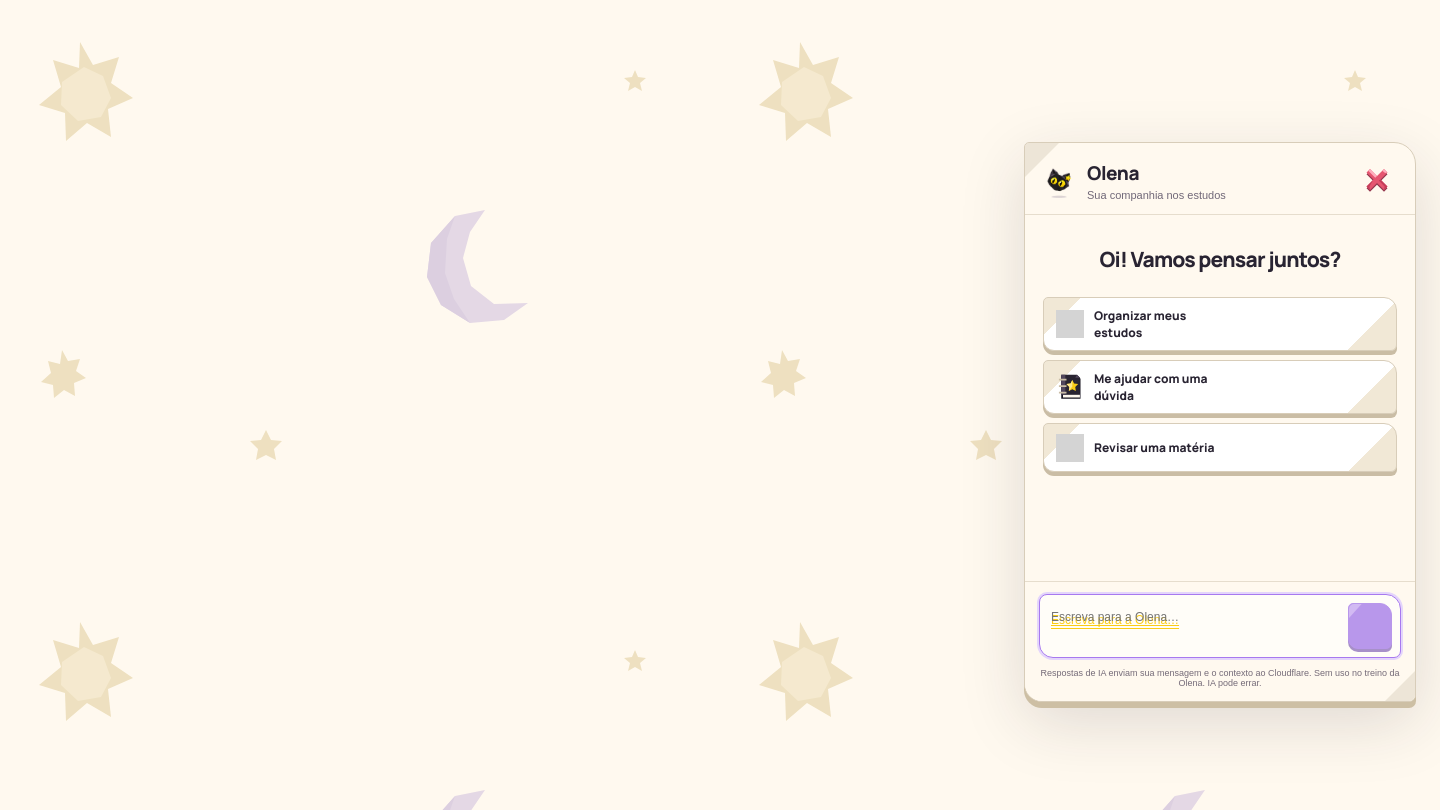
Test: shows partial text immediately, stops upstream and ignores late text after a new send
This screenshot has width=1440, height=810.
Type "Primeira" into the text box at (1194, 626), box [1048,603,1340,649]
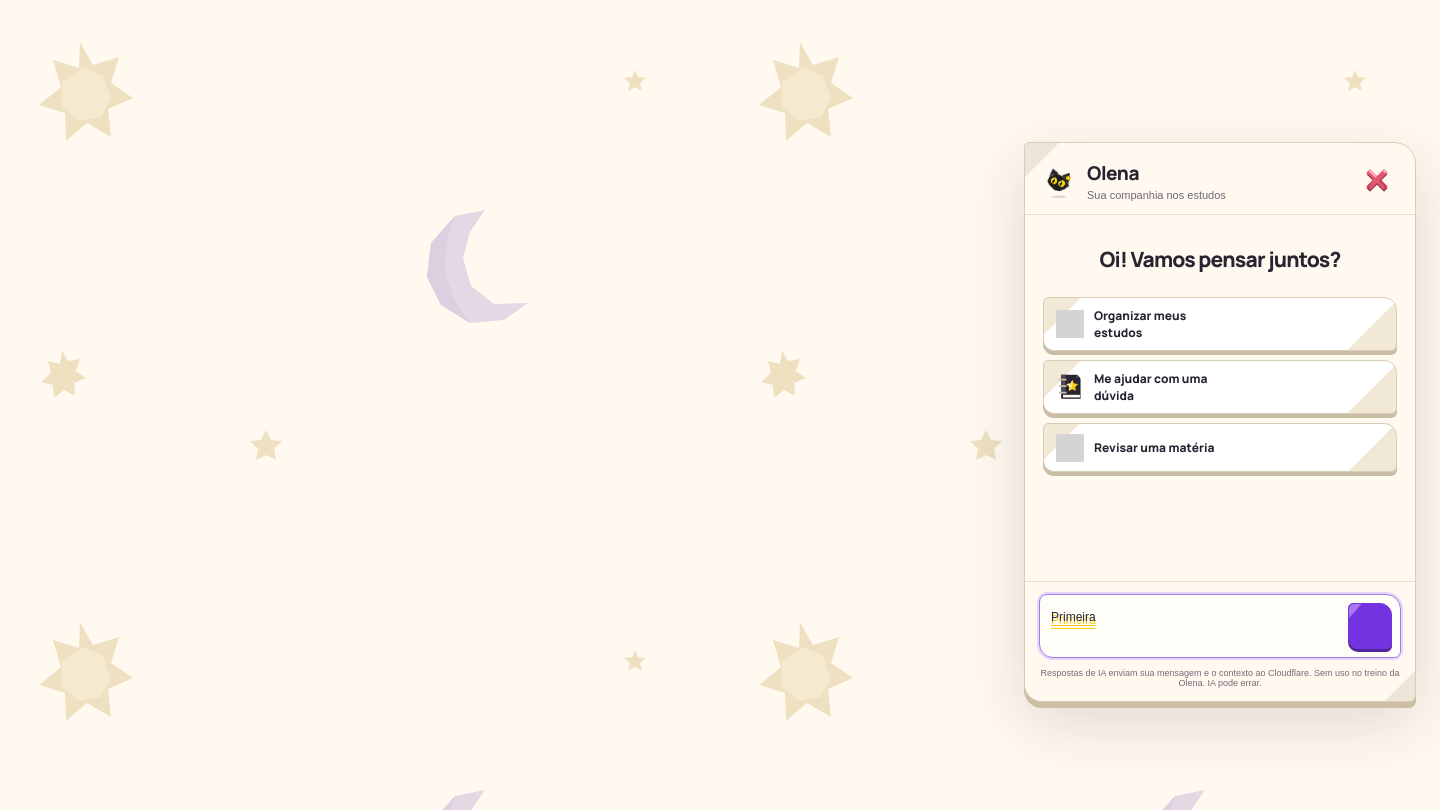
Click the button named "Enviar mensagem" at (1370, 626), box [1348,603,1392,649]
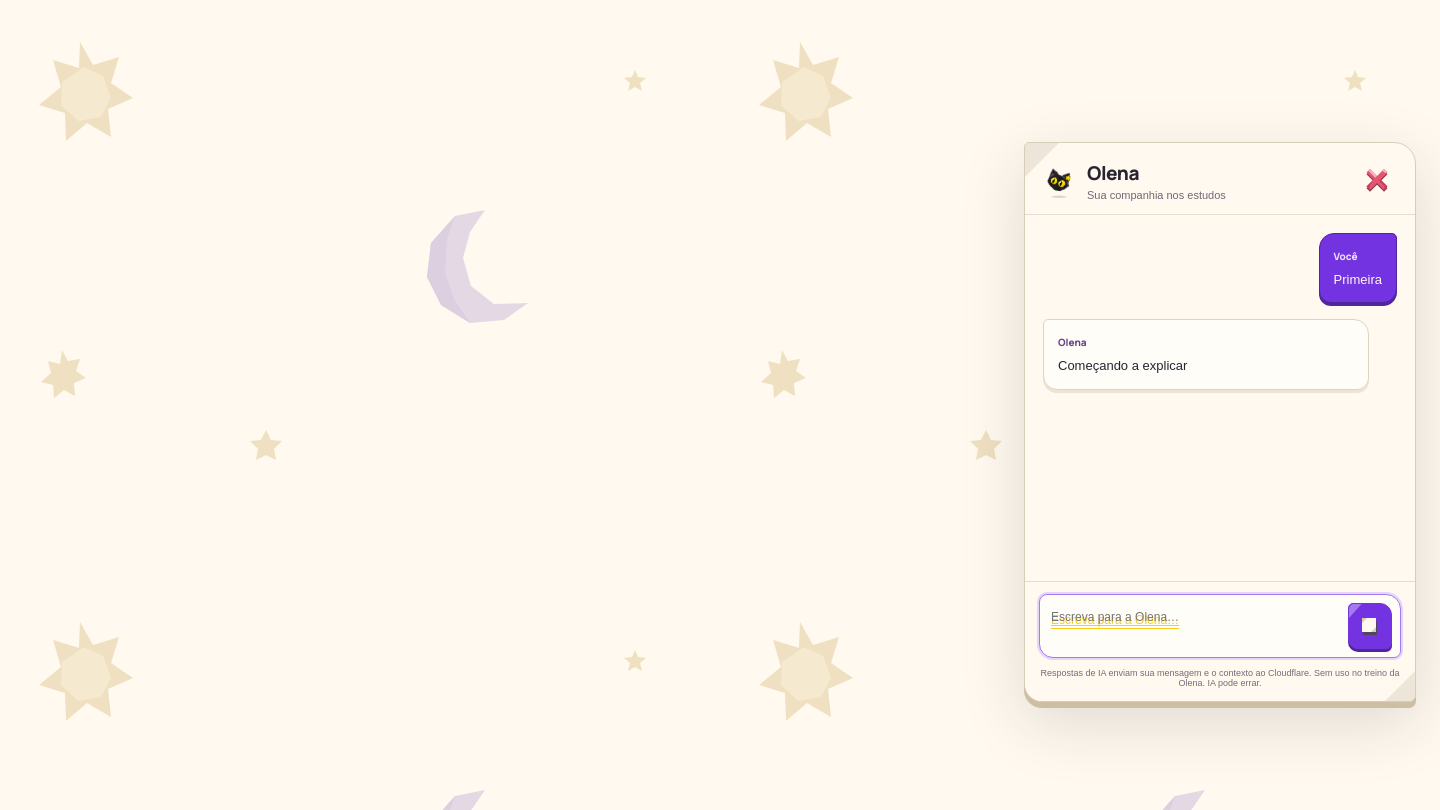
Expected: the text "Começando a explicar" is shown, [1058,358,1187,373]
Click the button named "Interromper resposta" at (1370, 626), box [1348,603,1392,649]
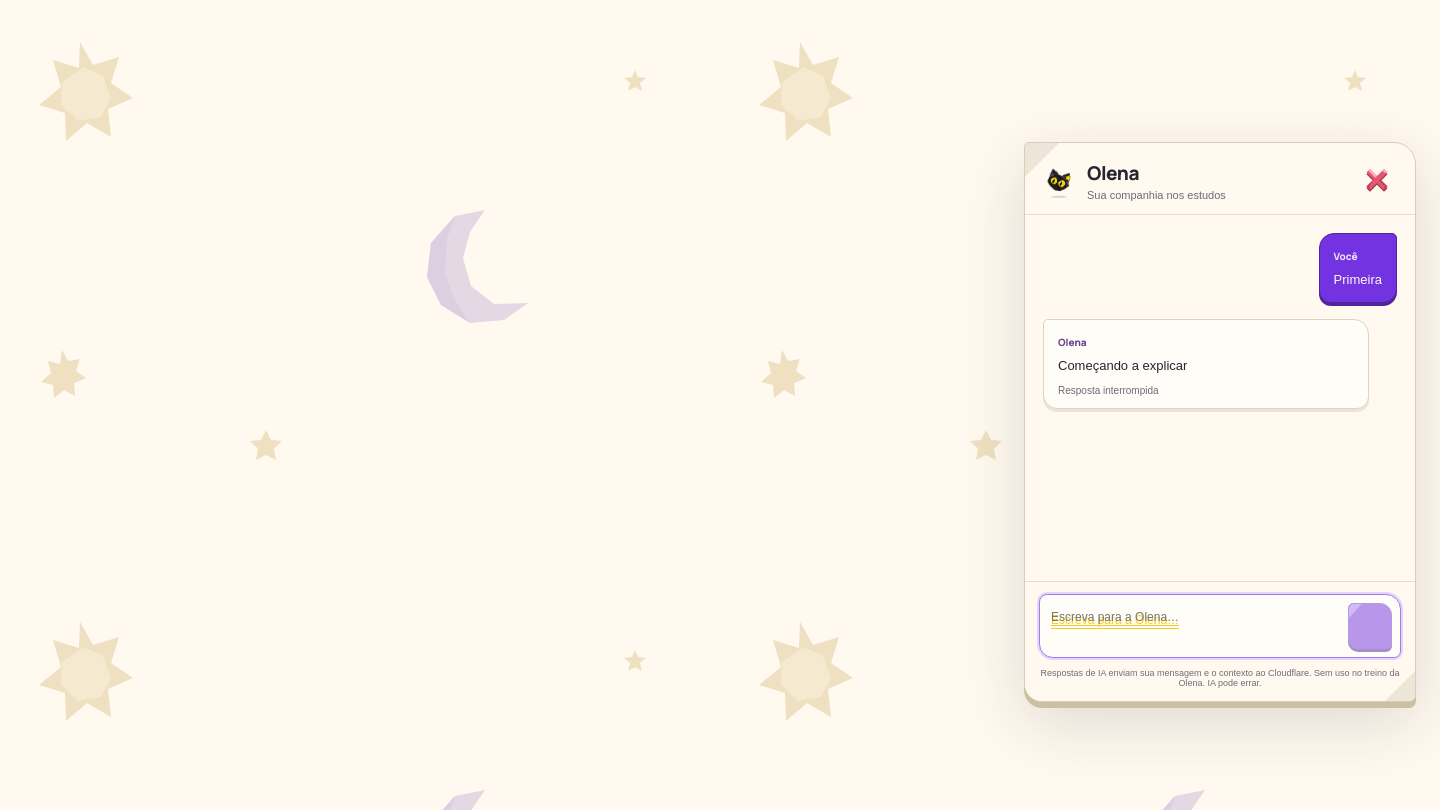
Expected: the text "Resposta interrompida" is shown, [1058,385,1159,396]
Type "Segunda" into the text box at (1194, 626), box [1048,603,1340,649]
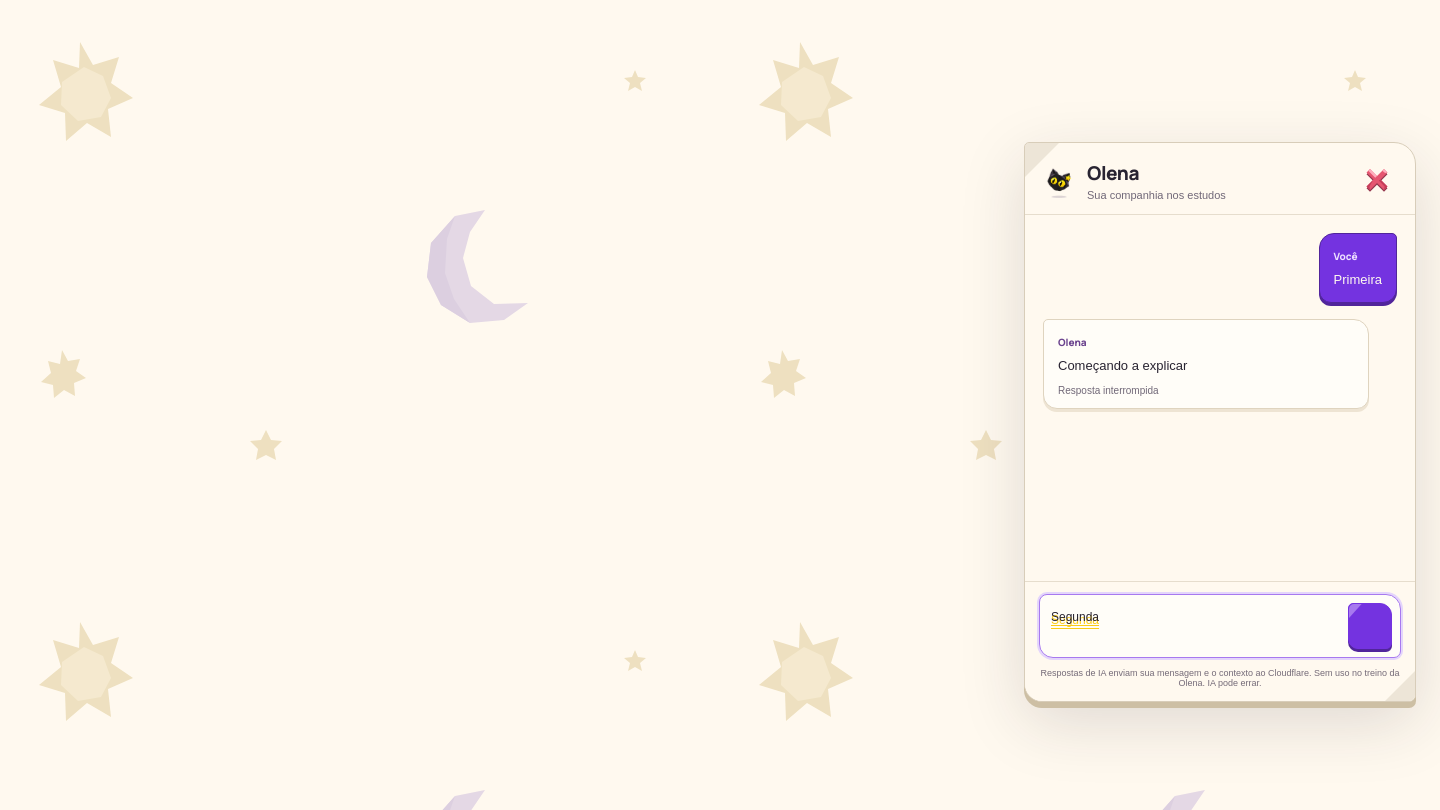
Click the button named "Enviar mensagem" at (1370, 626), box [1348,603,1392,649]
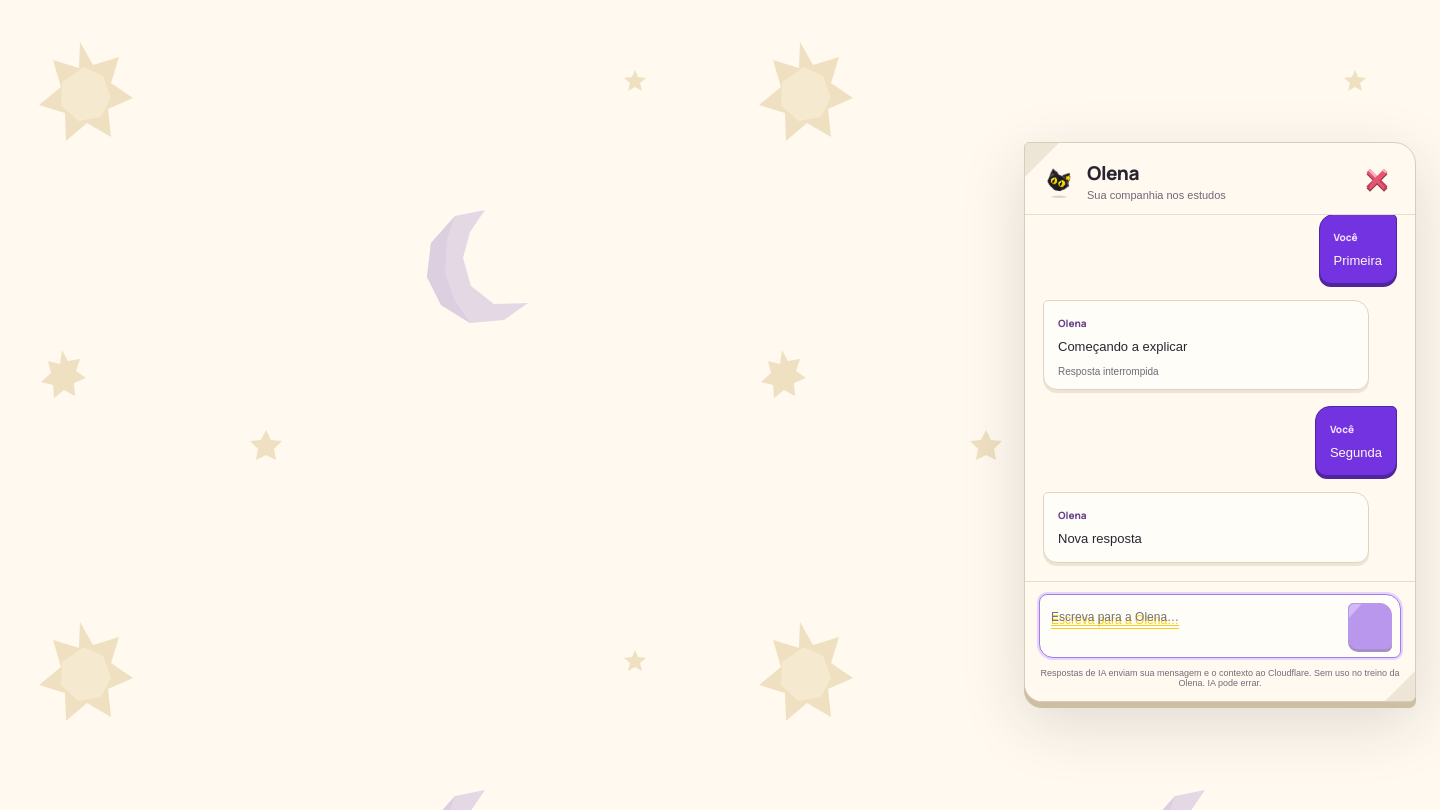
Expected: the text "Nova resposta" is shown, [1058,531,1142,546]
